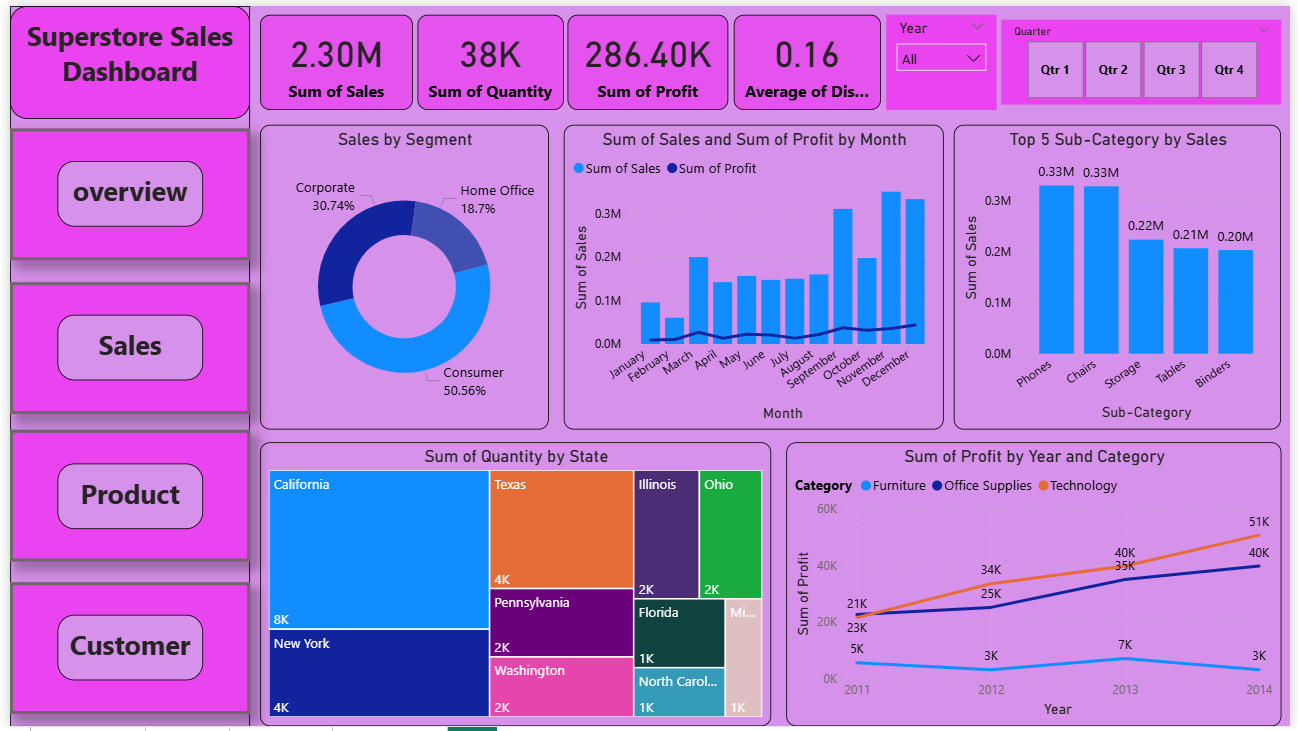

The page's visual inventory and layout, read from the dashboard file:
{"tool":"powerbi","page":{"name":"Overview","canvas":[1280,720],"ordinal":0},"visuals":[{"type":"group","id":"g1","title":"Navigation Paanel","box":[0,0,240,720],"z":0},{"type":"textbox","box":[0,0,240.1,720.4],"z":0,"group":"g1"},{"type":"card","fields":{"Values":["Sum(Orders.Sales)"]},"box":[250,8.8,153,95],"z":0,"group":"g2"},{"type":"textbox","box":[0,0,240.1,112.5],"z":1000,"group":"g1"},{"type":"card","fields":{"Values":["Sum(Orders.Quantity)"]},"box":[408,8.8,146,95],"z":1000,"group":"g2"},{"type":"lineClusteredColumnComboChart","fields":{"Category":["calender.Date.Variation.Date Hierarchy.Month"],"Y":["Sum(Orders.Sales)"],"Y2":["Sum(Orders.Profit)"]},"box":[553.8,118.8,380,305],"z":1000},{"type":"card","fields":{"Values":["Sum(Orders.Profit)"]},"box":[557.5,8.8,161,95],"z":2000,"group":"g2"},{"type":"columnChart","title":"Top 5 Sub-Category by Sales","fields":{"Category":["Orders.Sub-Category"],"Y":["Sum(Orders.Sales)"]},"box":[943.8,118.8,327.5,305],"z":2000},{"type":"actionButton","box":[0,576.3,240.1,131.7],"z":2000,"group":"g1"},{"type":"card","fields":{"Values":["Avg(Orders.Discount)"]},"box":[724,8.8,147,95],"z":3000,"group":"g2"},{"type":"actionButton","box":[0,424,240.1,131.7],"z":3000,"group":"g1"},{"type":"treemap","fields":{"Values":["Sum(Orders.Quantity)"],"Group":["Orders.State"]},"box":[250,436.2,511.2,283.8],"z":3000},{"type":"slicer","fields":{"Values":["calender.Year"]},"box":[876,8.8,110,95],"z":4000,"group":"g2"},{"type":"actionButton","box":[0,275.8,240.1,131.7],"z":4000,"group":"g1"},{"type":"lineChart","fields":{"Series":["Orders.Category"],"Y":["Sum(Orders.Profit)"],"Category":["calender.Year"]},"box":[776.2,436.2,495,283.8],"z":4000},{"type":"slicer","fields":{"Values":["calender.Date.Variation.Date Hierarchy.Quarter"]},"box":[991.2,13.8,280,85],"z":5000,"group":"g2"},{"type":"donutChart","title":"Sales by Segment","fields":{"Category":["Orders.Segment"],"Y":["Sum(Orders.Sales)"]},"box":[250,118.8,288.8,305],"z":5000},{"type":"actionButton","box":[0,122.1,240.1,131.7],"z":5000,"group":"g1"},{"type":"group","id":"g2","title":"Group 1","box":[250,8.8,1021.2,95],"z":6000},{"type":"textbox","box":[48,155.1,145.5,65.9],"z":6000,"group":"g1"},{"type":"textbox","box":[48,308.7,145.5,65.9],"z":7000,"group":"g1"},{"type":"textbox","box":[48,456.9,145.5,65.9],"z":8000,"group":"g1"},{"type":"textbox","box":[48,609.3,145.5,65.9],"z":9000,"group":"g1"}]}

Visuals, with their boxes in screenshot pixels (x1, y1, x2, y2), scaled from the page's 1280x720 canvas onto the 1298x731 screenshot:
"Navigation Paanel" group: 0/0/243/730
textbox: 0/0/243/730
card - Sum(Orders.Sales): 254/9/409/105
textbox: 0/0/243/114
card - Sum(Orders.Quantity): 414/9/562/105
lineClusteredColumnComboChart - calender.Date.Variation.Date Hierarchy.Month x Sum(Orders.Sales): 562/121/947/430
card - Sum(Orders.Profit): 565/9/729/105
"Top 5 Sub-Category by Sales" columnChart: 957/121/1289/430
actionButton: 0/585/243/719
card - Avg(Orders.Discount): 734/9/883/105
actionButton: 0/430/243/564
treemap - Sum(Orders.Quantity) x Orders.State: 254/443/772/730
slicer - calender.Year: 888/9/1000/105
actionButton: 0/280/243/414
lineChart - Orders.Category x Sum(Orders.Profit): 787/443/1289/730
slicer - calender.Date.Variation.Date Hierarchy.Quarter: 1005/14/1289/100
"Sales by Segment" donutChart: 254/121/546/430
actionButton: 0/124/243/258
"Group 1" group: 254/9/1289/105
textbox: 49/157/196/224
textbox: 49/313/196/380
textbox: 49/464/196/531
textbox: 49/619/196/686
